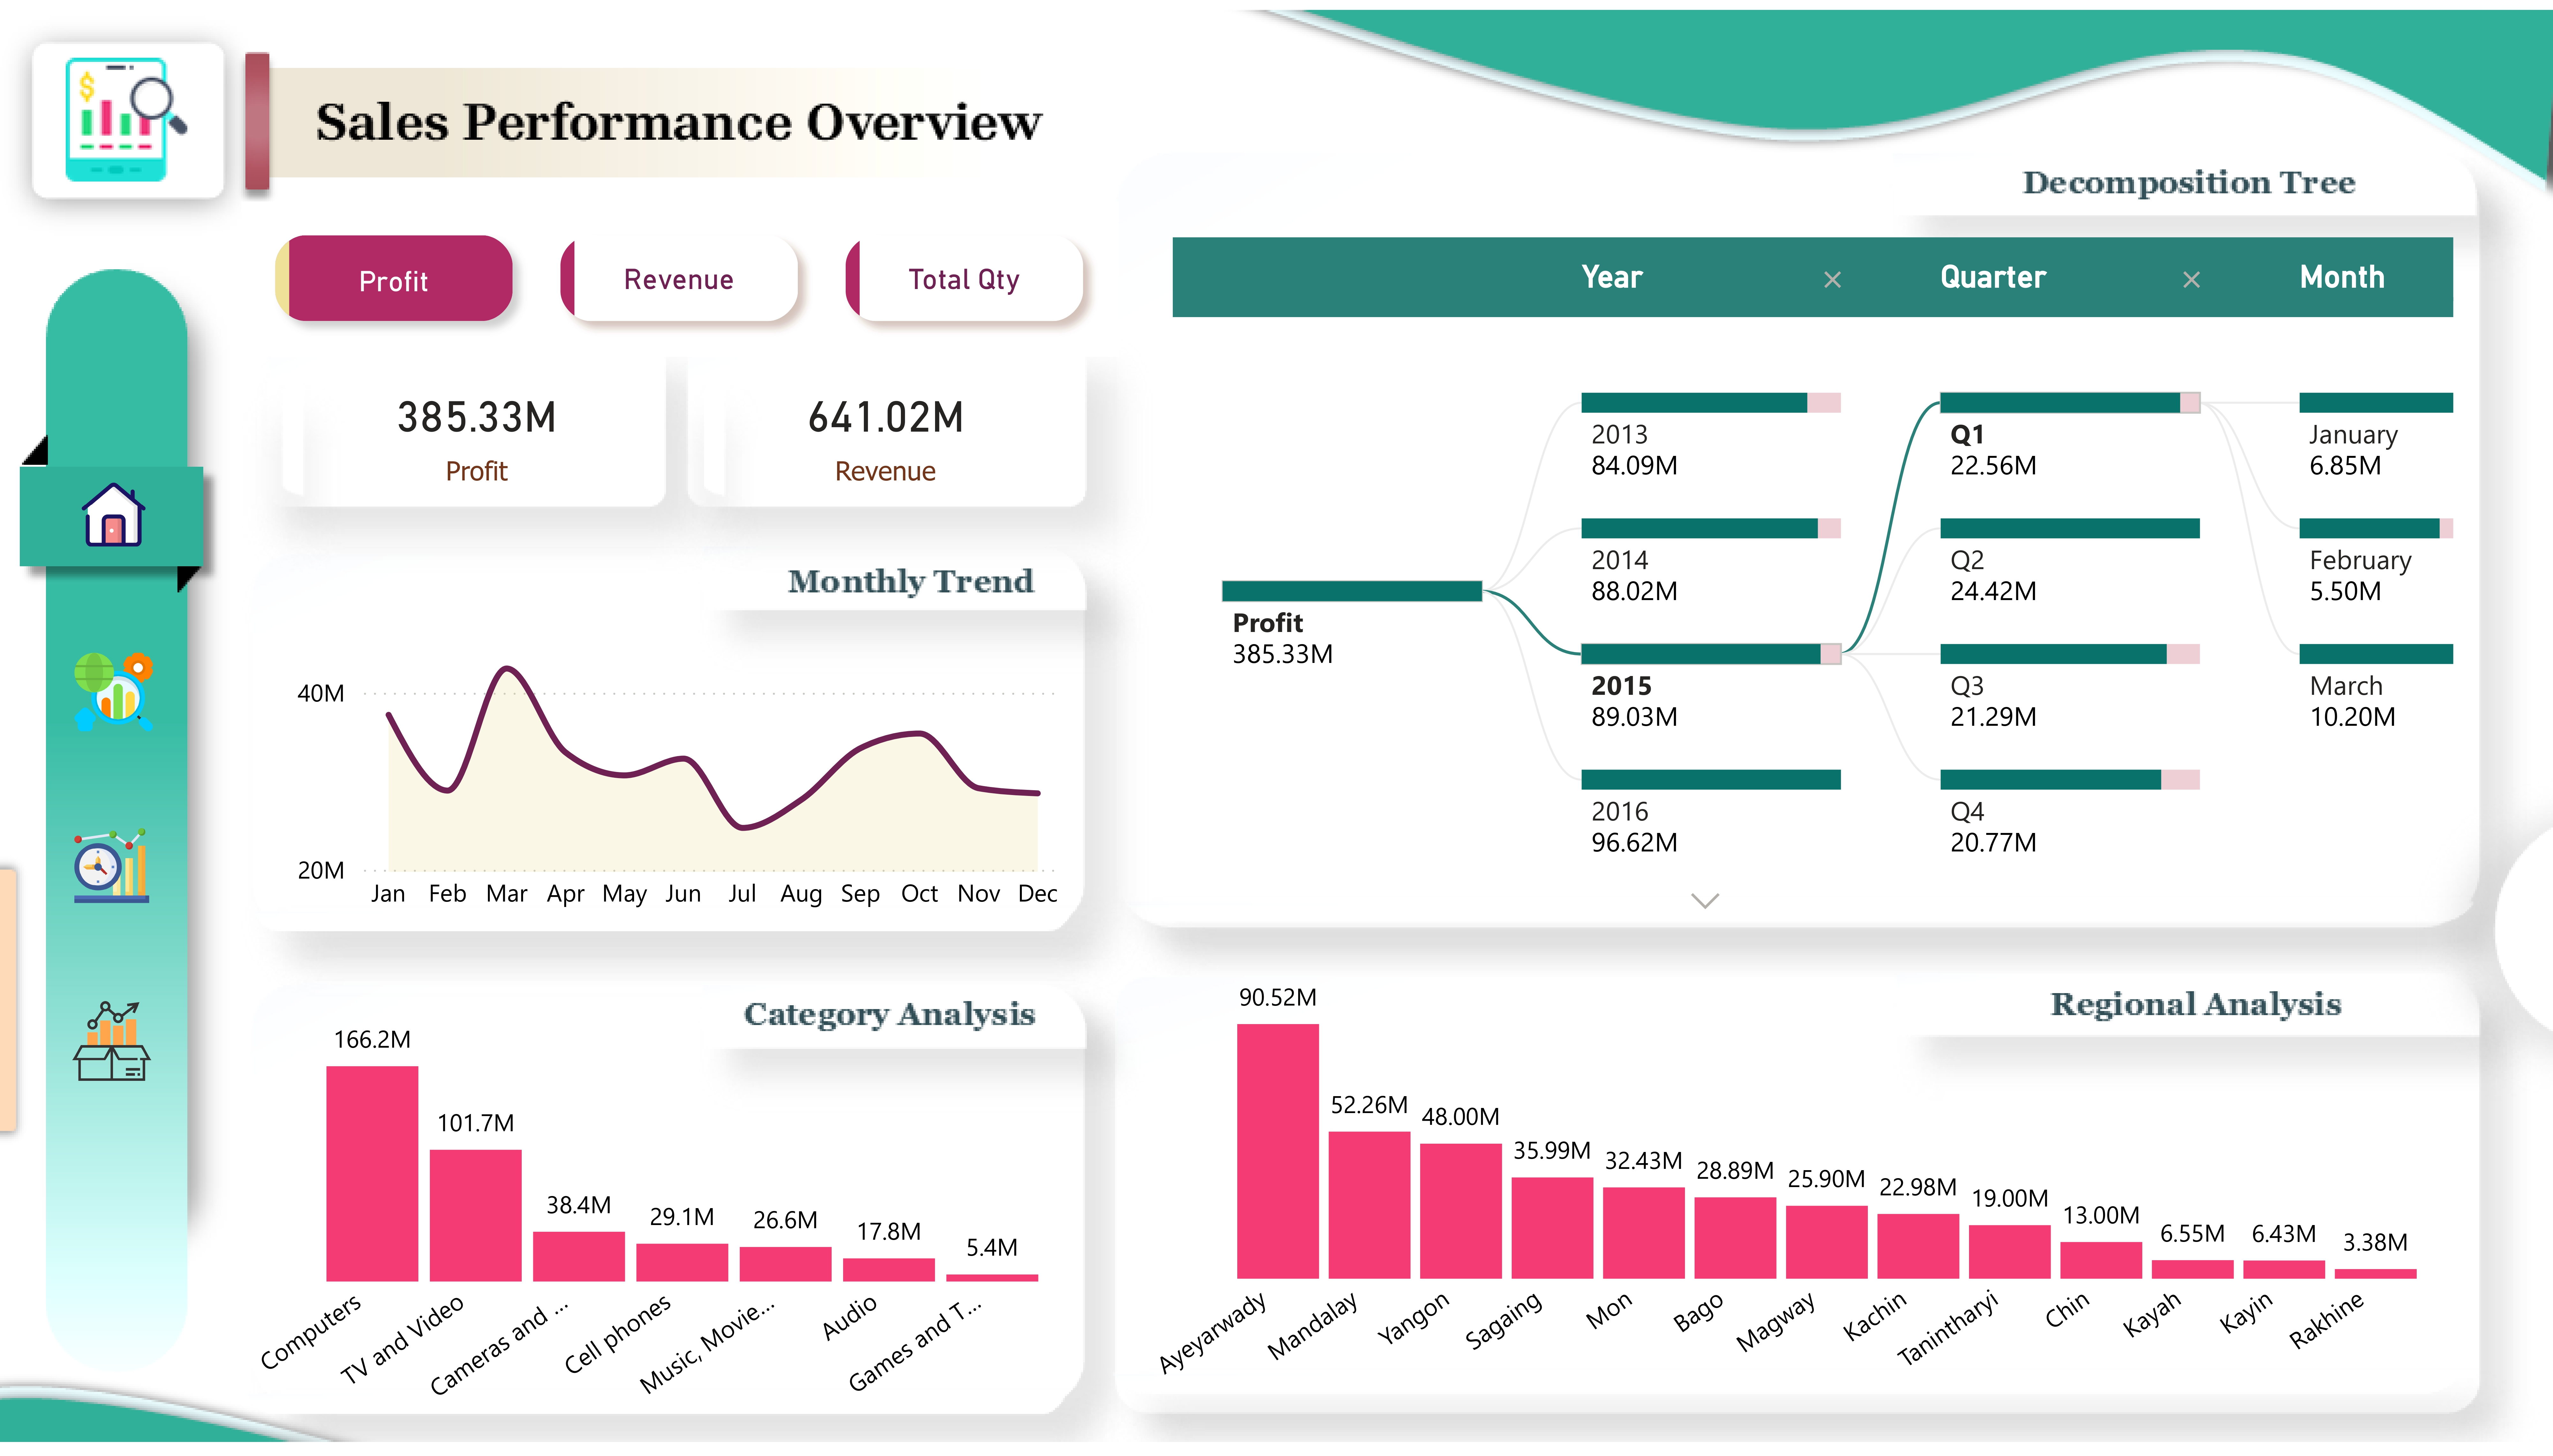

This screenshot's page, from the dashboard's own definition file:
{"tool":"powerbi","page":{"name":"Home","canvas":[1280,720],"ordinal":0},"visuals":[{"type":"card","fields":{"Values":["Formulas.Profit"]},"box":[144,180,190.1,63.4],"z":0},{"type":"card","fields":{"Values":["Formulas.Revenue"]},"box":[341.3,180,205.9,63.4],"z":1000},{"type":"clusteredColumnChart","title":"Profit by Category","fields":{"Y":["Formulas.Profit"],"Category":["Product Category.Product Category"]},"box":[121.5,491.7,425.9,216.6],"z":2000},{"type":"clusteredColumnChart","fields":{"Y":["Formulas.Profit"],"Category":["Region.Region"]},"box":[570.2,472.3,665.3,236.2],"z":3000},{"type":"decompositionTreeVisual","fields":{"Analyze":["Formulas.Profit"],"ExplainBy":["Date.Year","Date.Quarter","Date.Month"]},"box":[583.2,109.4,652.3,362.9],"z":4000},{"type":"advancedSlicerVisual","fields":{"Values":["Measure List.Measure List"]},"box":[120.7,96.2,439.9,77.9],"z":5000},{"type":"areaChart","title":"Monthly Trend","fields":{"Y":["Formulas.Profit"],"Category":["Date.Month_Abb"]},"box":[144,283.7,393.1,177.1],"z":6000},{"type":"image","box":[35.1,231.8,43.2,41.8],"z":7000},{"type":"image","box":[27.9,313.9,57.6,56.2],"z":8000},{"type":"image","box":[31.5,398.9,50.4,59],"z":9000},{"type":"image","box":[31.5,491,50.4,51.8],"z":10000}]}

Visuals, with their boxes in screenshot pixels (x1, y1, x2, y2), scaled from the page's 1280x720 canvas onto the 2553x1456 screenshot:
card - Formulas.Profit: (x1=287, y1=364, x2=666, y2=492)
card - Formulas.Revenue: (x1=681, y1=364, x2=1091, y2=492)
"Profit by Category" clusteredColumnChart: (x1=242, y1=994, x2=1092, y2=1432)
clusteredColumnChart - Formulas.Profit x Region.Region: (x1=1137, y1=955, x2=2464, y2=1433)
decompositionTreeVisual - Formulas.Profit x Date.Year: (x1=1163, y1=221, x2=2464, y2=955)
advancedSlicerVisual - Measure List.Measure List: (x1=241, y1=195, x2=1118, y2=352)
"Monthly Trend" areaChart: (x1=287, y1=574, x2=1071, y2=932)
image: (x1=70, y1=469, x2=156, y2=553)
image: (x1=56, y1=635, x2=170, y2=748)
image: (x1=63, y1=807, x2=163, y2=926)
image: (x1=63, y1=993, x2=163, y2=1098)
